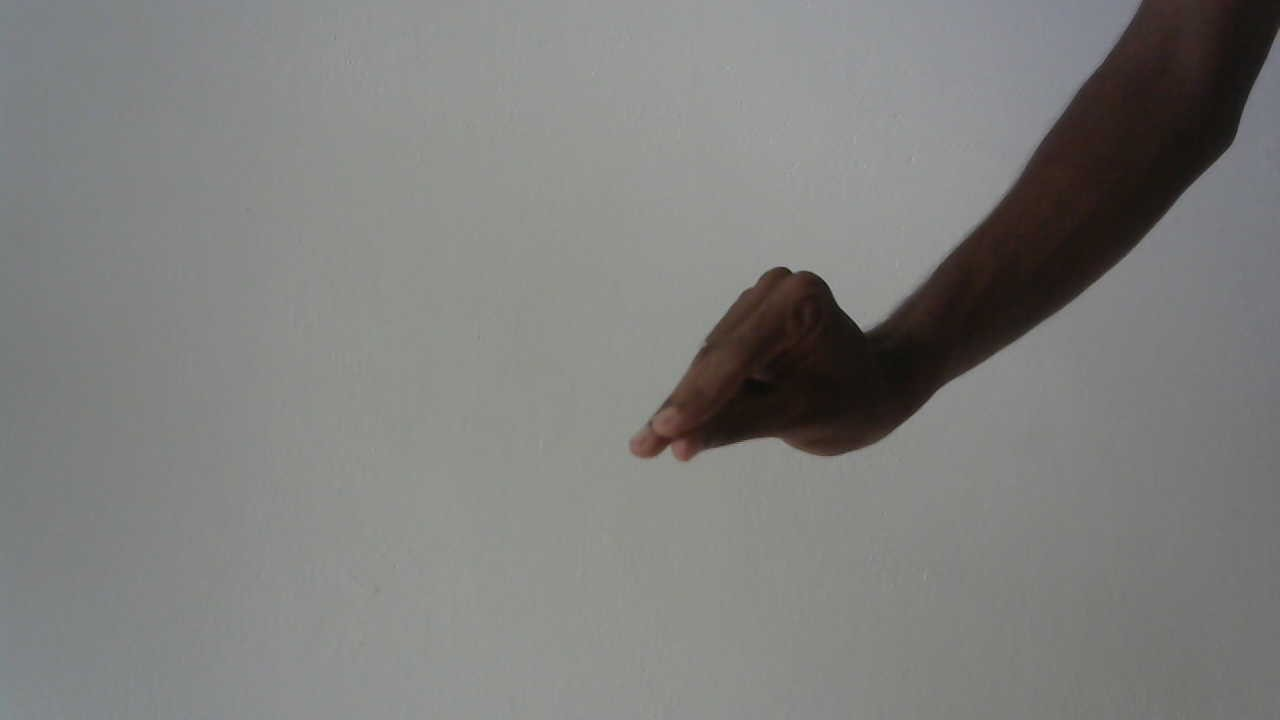no: (614, 255, 929, 481)
